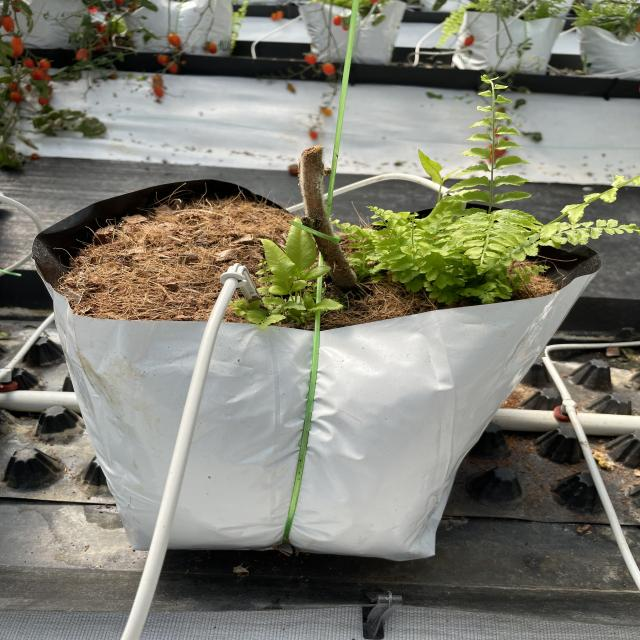Obstacle: (123, 269, 241, 640)
Soilbag: (52, 268, 594, 640)
